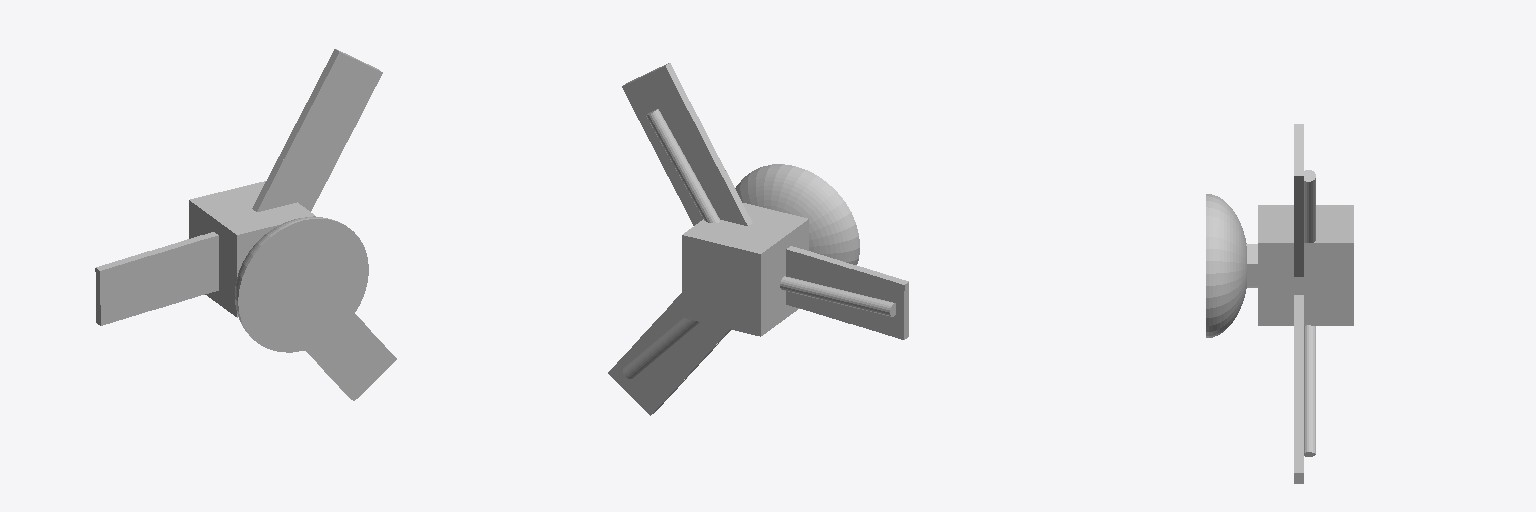
Rendered from tinker.obj.
The picture shows the model from 3 angles: view 1: azimuth 30°, elevation 25°; view 2: azimuth 150°, elevation 25°; view 3: azimuth 270°, elevation 25°; orthographic projection.
Parts seen in each view (by area): view 1: obj_2, obj_0, obj_9, obj_5, obj_4, obj_10, obj_8, obj_3, obj_7, obj_11; view 2: obj_0, obj_2, obj_5, obj_9, obj_8, obj_10, obj_4, obj_7, obj_3, obj_13, obj_12, obj_14 (+1 smaller); view 3: obj_0, obj_2, obj_14, obj_13, obj_5, obj_8, obj_7, obj_6.
Part boxes in pixels (left/top/right/bottom): obj_2: left=235, top=217, right=368, bottom=352; obj_0: left=189, top=181, right=315, bottom=317; obj_9: left=95, top=251, right=153, bottom=325; obj_5: left=307, top=49, right=382, bottom=126; obj_4: left=279, top=103, right=354, bottom=180; obj_10: left=149, top=235, right=205, bottom=309; obj_8: left=317, top=324, right=396, bottom=400; obj_3: left=252, top=157, right=326, bottom=211; obj_7: left=305, top=314, right=364, bottom=365; obj_11: left=202, top=232, right=218, bottom=293; obj_0: left=682, top=203, right=808, bottom=336; obj_2: left=735, top=164, right=859, bottom=264; obj_5: left=622, top=63, right=697, bottom=140; obj_9: left=851, top=265, right=908, bottom=339; obj_8: left=608, top=338, right=687, bottom=415; obj_10: left=798, top=249, right=855, bottom=323; obj_4: left=650, top=117, right=724, bottom=194; obj_7: left=640, top=303, right=720, bottom=379; obj_3: left=678, top=170, right=752, bottom=225; obj_13: left=646, top=109, right=719, bottom=222; obj_12: left=780, top=276, right=895, bottom=316; obj_14: left=623, top=318, right=699, bottom=378; obj_0: left=1258, top=205, right=1353, bottom=325; obj_2: left=1206, top=194, right=1246, bottom=337; obj_14: left=1304, top=325, right=1315, bottom=456; obj_13: left=1304, top=170, right=1315, bottom=242; obj_5: left=1294, top=124, right=1303, bottom=209; obj_8: left=1294, top=414, right=1303, bottom=483; obj_7: left=1294, top=354, right=1303, bottom=413; obj_6: left=1294, top=295, right=1303, bottom=353.
Size of the model in its own units: 143 by 163 by 62.